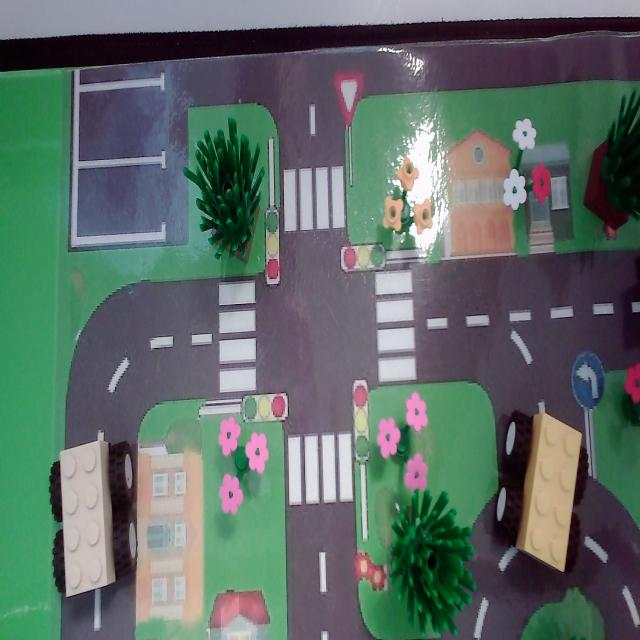Car: (491, 399, 591, 582), (43, 439, 143, 602)
Flower: (369, 390, 438, 496), (210, 410, 276, 519), (495, 116, 557, 215), (384, 154, 438, 247)
Tree: (376, 483, 484, 640), (181, 116, 276, 274), (577, 94, 640, 237)
